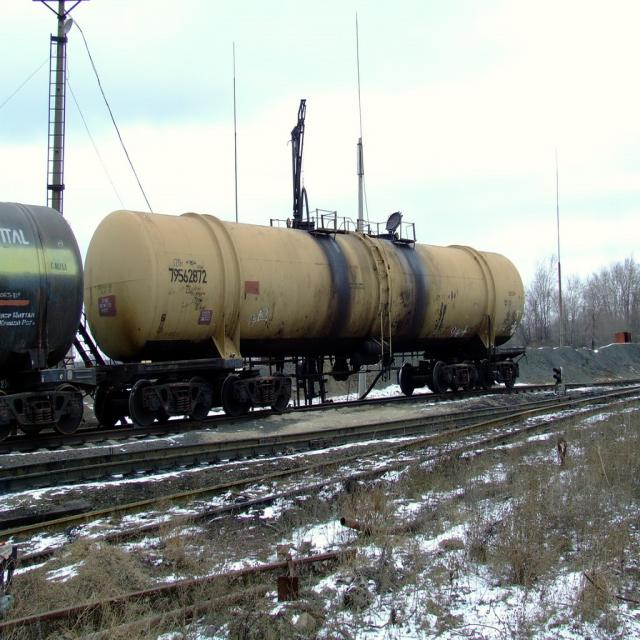tank: (82, 183, 536, 442), (0, 188, 89, 452)
